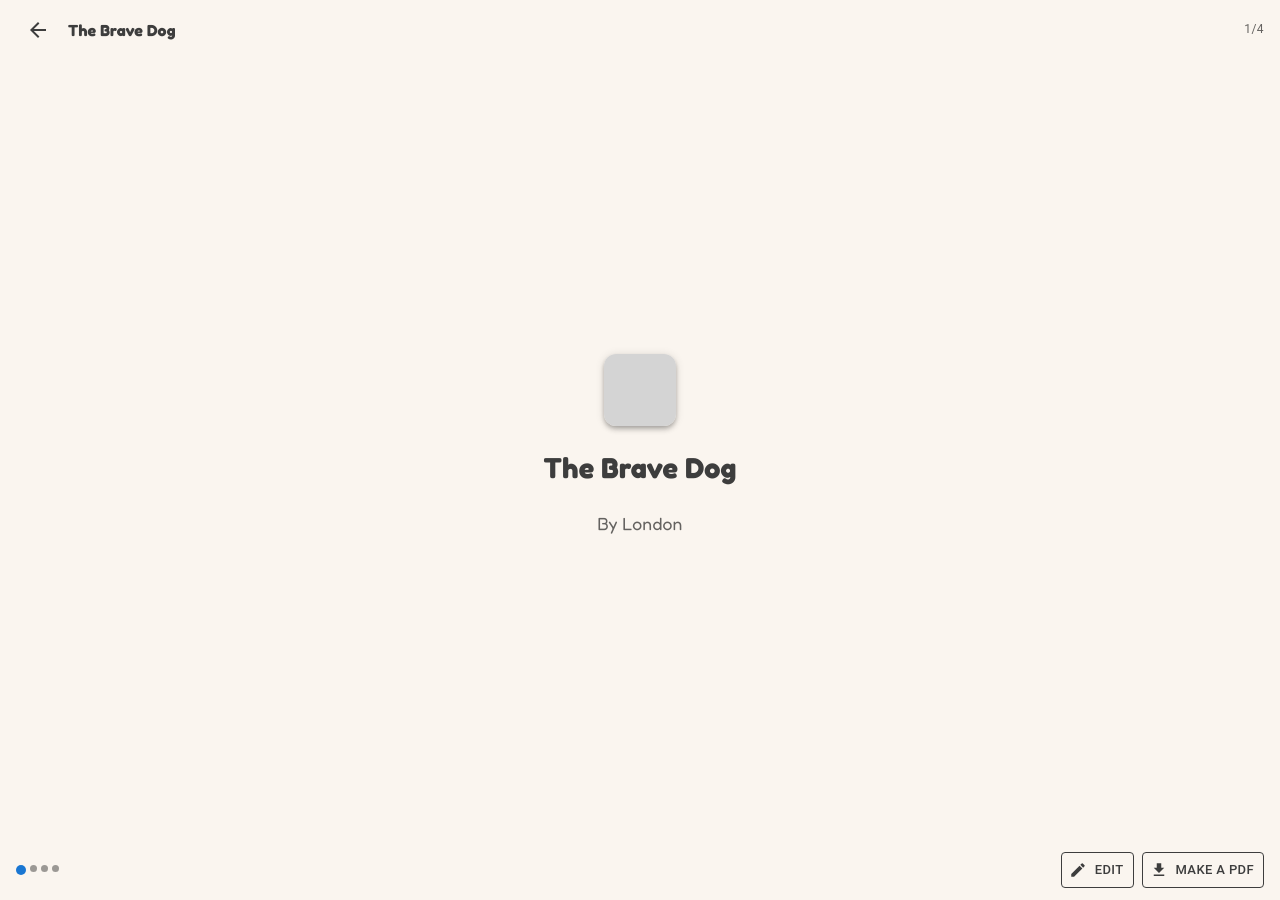
Test: BookReaderPage — Story Call mode › default-mode back cover shows the comprehension check, not audience chips
Click the button named "go to page" at coordinates (56, 868), box [52,865,59,872]
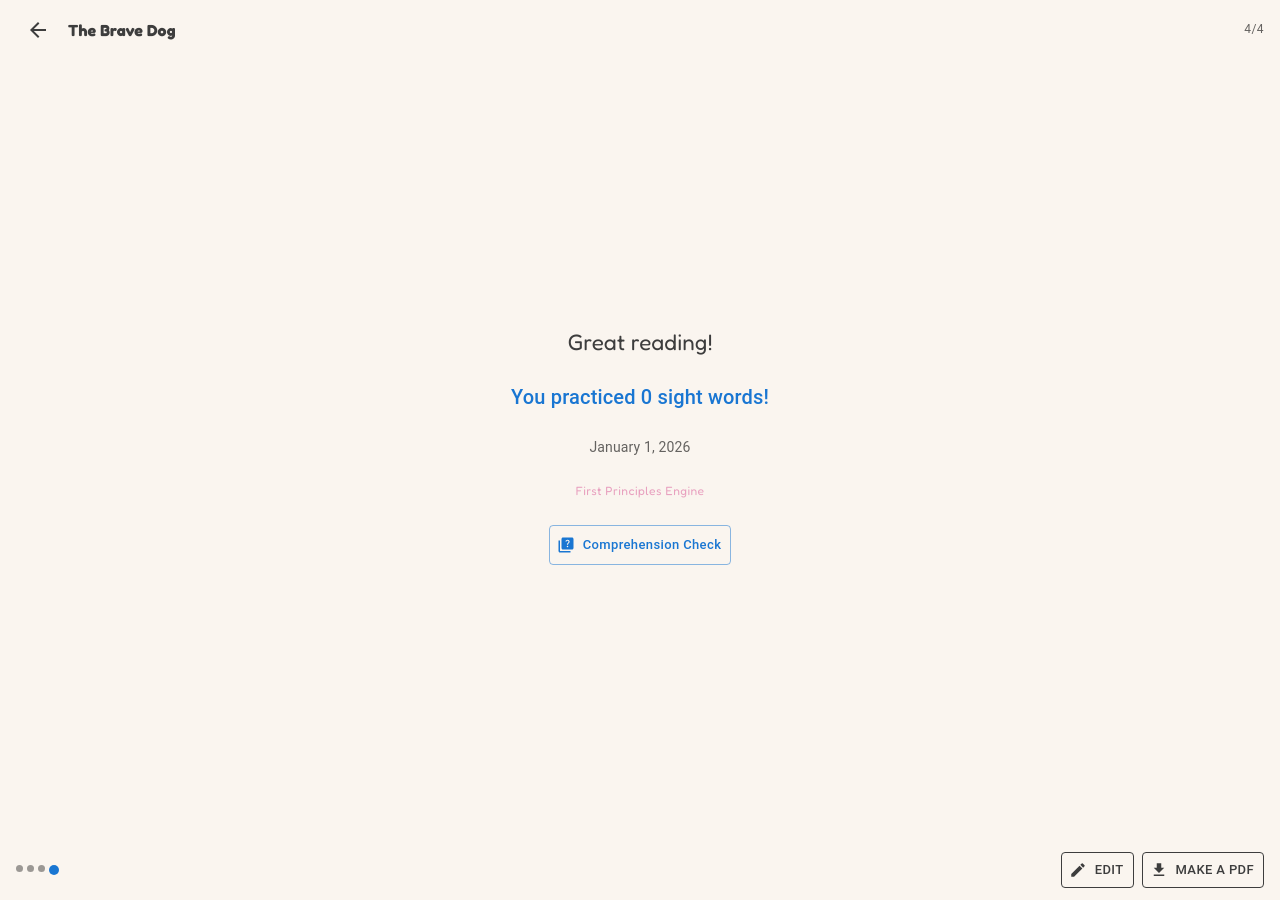
Check: the button "Comprehension Check" is shown, box [549,525,731,565]
